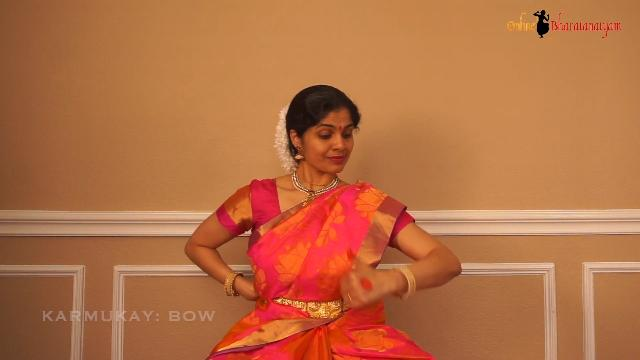shikhar: (320, 237, 412, 323)
